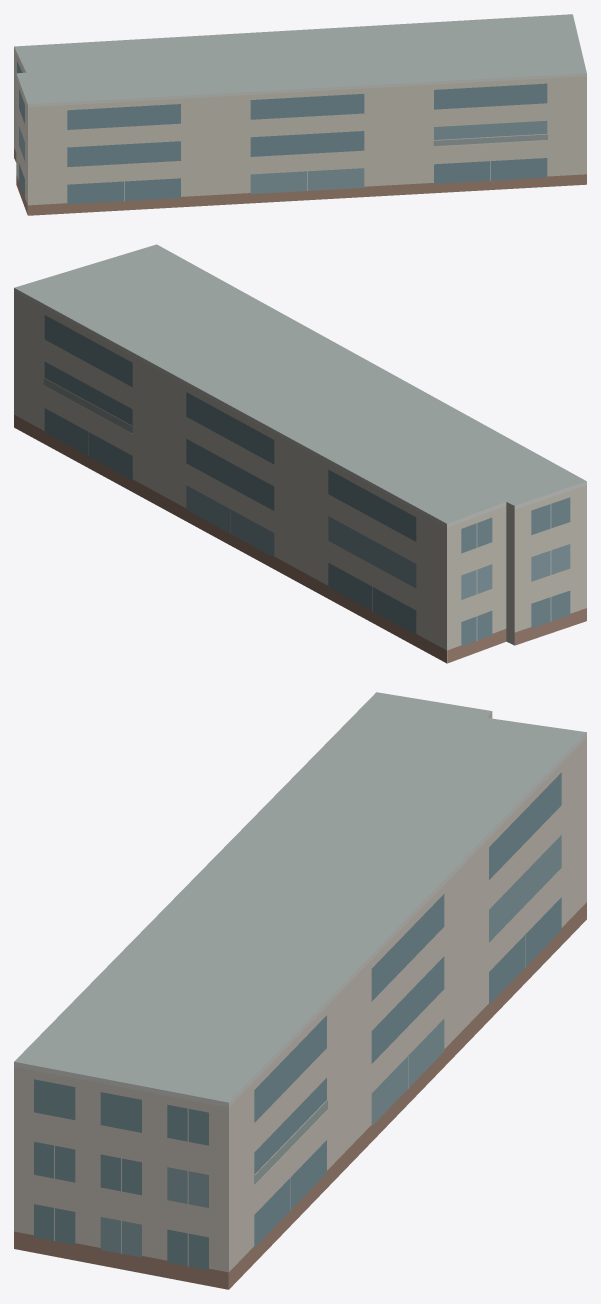
Rendered from survey-upis-32875124.glb.
3 views of the same model, one above another, from view 1: azimuth 30°, elevation 25°; view 2: azimuth 150°, elevation 25°; view 3: azimuth 270°, elevation 25° (orthographic). The views are drawn at different scales.
Parts seen in each view (by area): view 1: survey-upis-32875124.tmp; view 2: survey-upis-32875124.tmp; view 3: survey-upis-32875124.tmp.
Boxes of the visible parts, x1=… form: survey-upis-32875124.tmp: x1=14, y1=14, x2=586, y2=215; survey-upis-32875124.tmp: x1=14, y1=244, x2=586, y2=663; survey-upis-32875124.tmp: x1=14, y1=692, x2=586, y2=1289.
Bounding box in the file's own units: 43.04 × 9.15 × 25.38.
